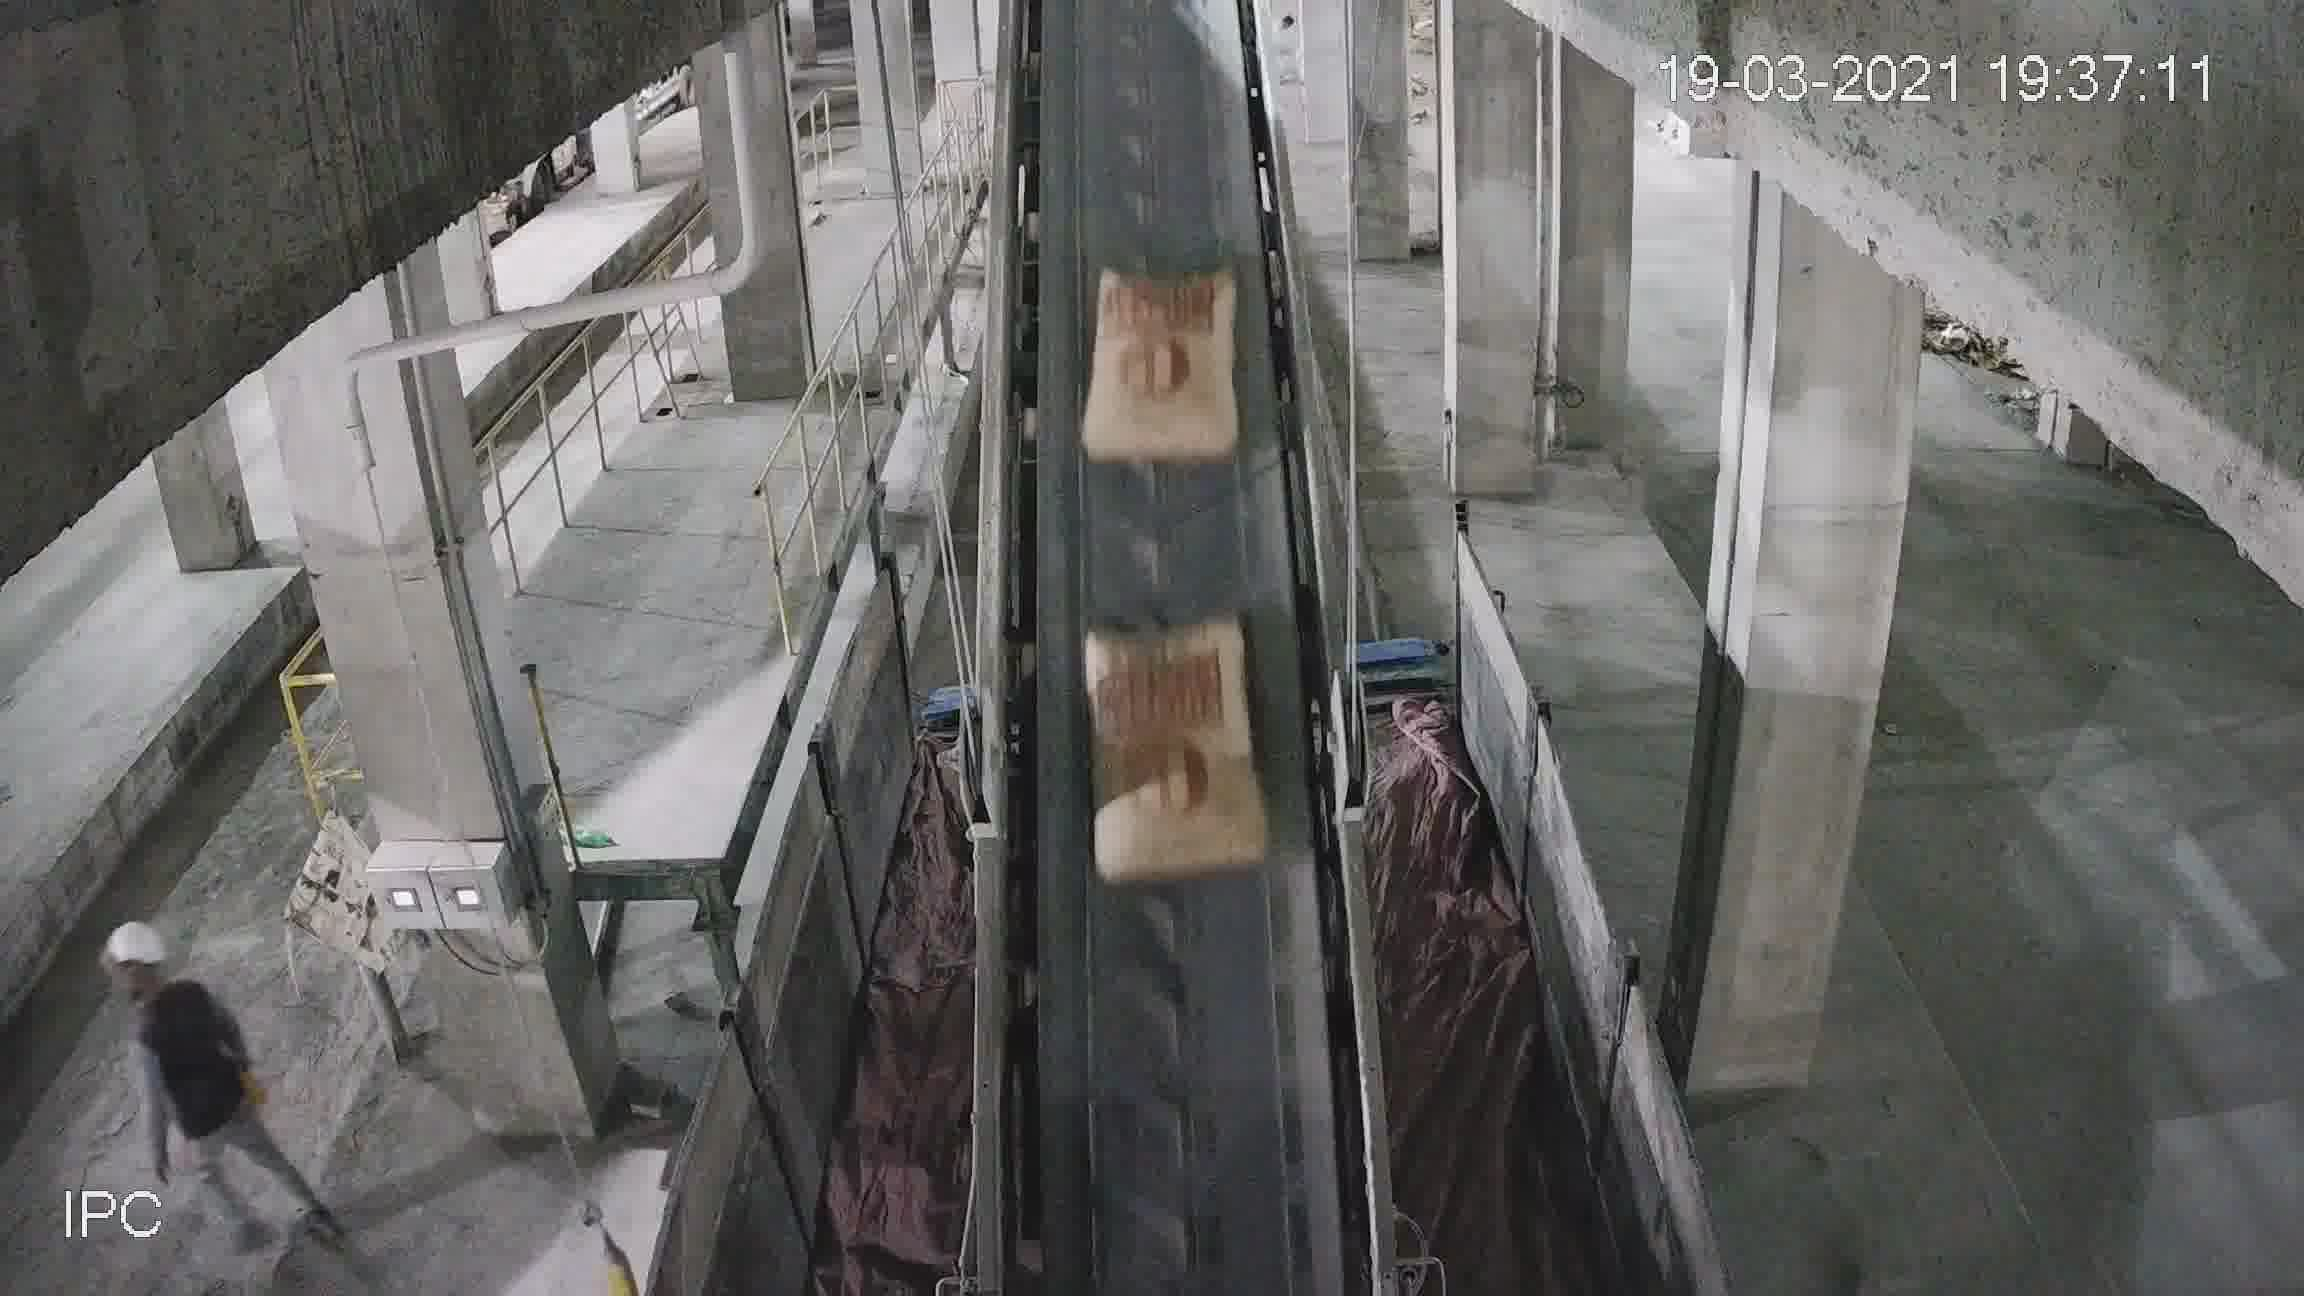bag: (1081, 623, 1263, 881), (1086, 275, 1244, 465)
belt: (983, 0, 1359, 1166)
